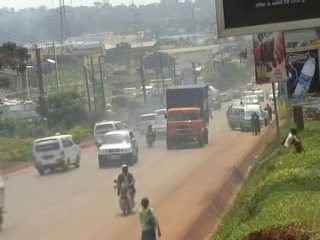Car: (94, 129, 141, 168), (139, 112, 160, 131), (151, 117, 170, 138)
Motorcycle: (111, 161, 137, 215), (141, 124, 157, 150)
